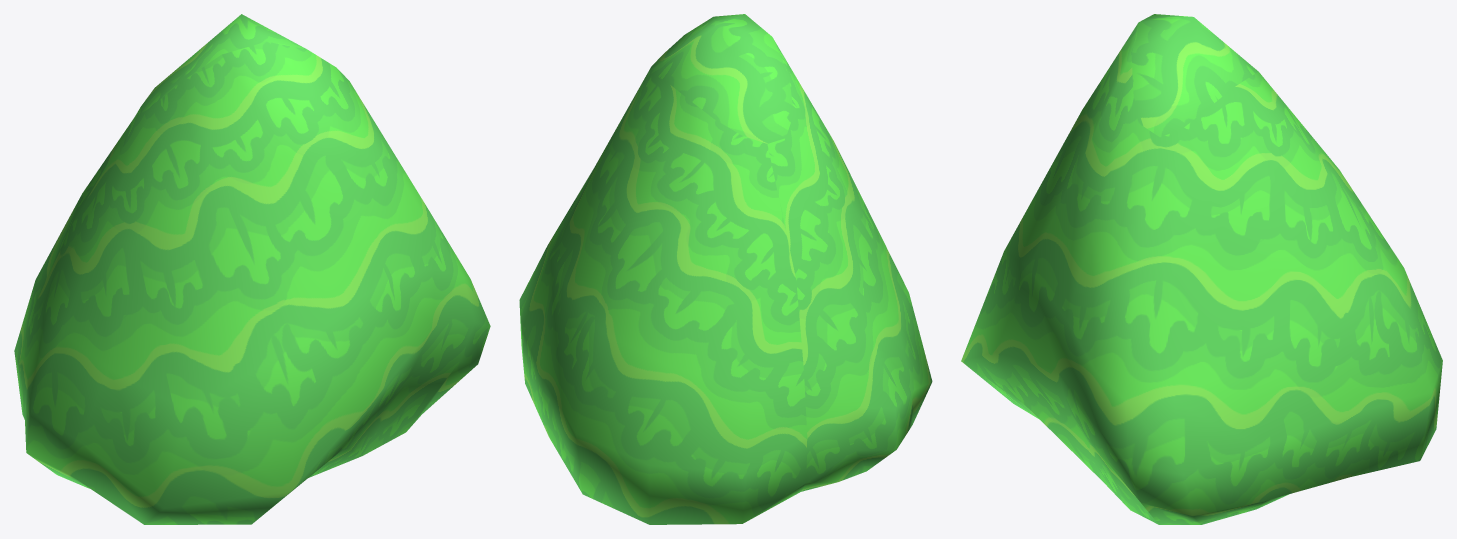
The model's file is P_Bush_3.fbx.
3 renders of one model, left to right at view 1: azimuth 30°, elevation 25°; view 2: azimuth 150°, elevation 25°; view 3: azimuth 270°, elevation 25°, orthographic. The views are drawn at different scales.
Visible parts, largest first — view 1: Sphere.003; view 2: Sphere.003; view 3: Sphere.003.
Part boxes in pixels (x1=…): Sphere.003: x1=14, y1=14, x2=490, y2=524; Sphere.003: x1=519, y1=14, x2=932, y2=524; Sphere.003: x1=961, y1=14, x2=1442, y2=524.
Bounding box in the file's own units: 1.87 × 1.84 × 1.84.
